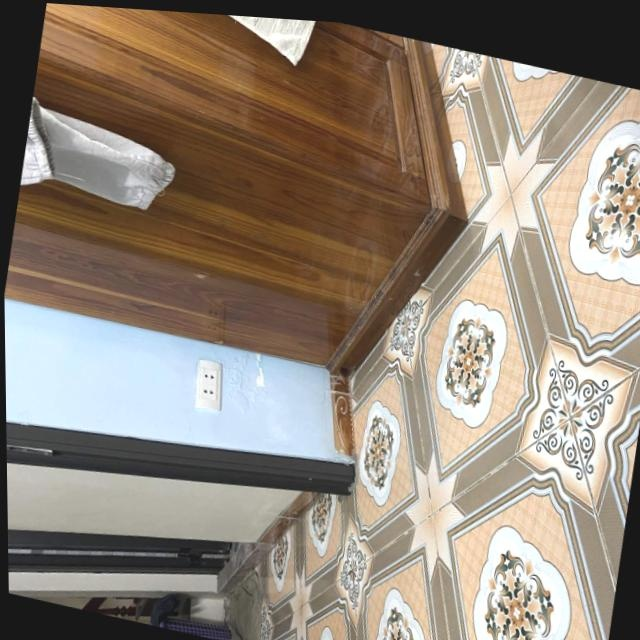outlet: (190, 357, 228, 413)
